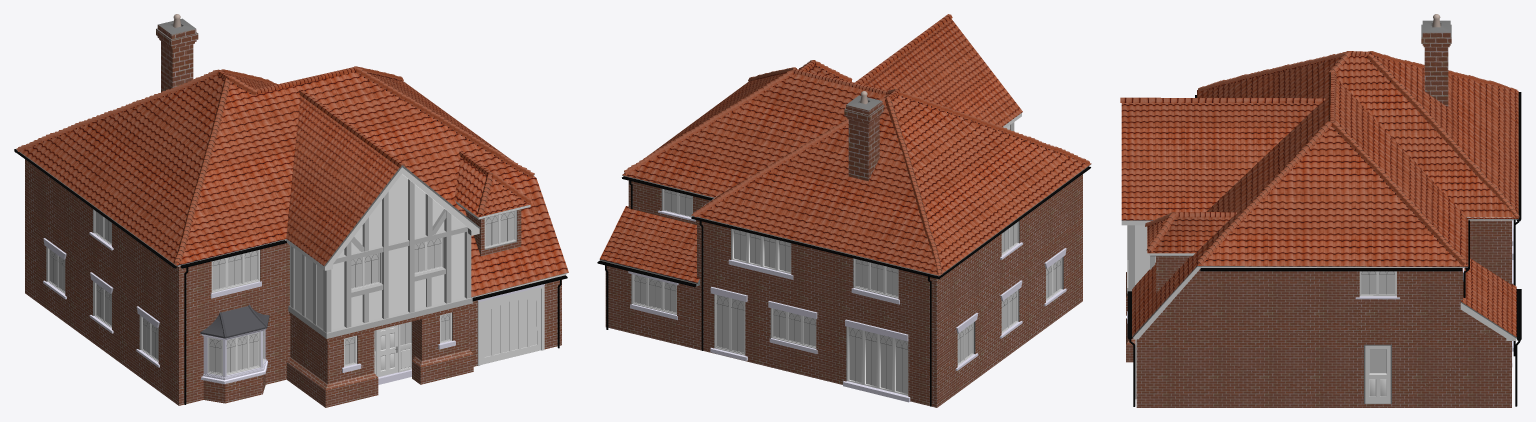
File: building3.obj
3 views of the same model, side by side, from view 1: azimuth 30°, elevation 25°; view 2: azimuth 150°, elevation 25°; view 3: azimuth 270°, elevation 25° (orthographic). The views are drawn at different scales.
Parts seen in each view (by area): view 1: CH_Building Main_Roof Roofs Roofs, CH_Building Floors Ground_Floor, CH_Building First_Floor Floors, CH_Building Roofs Roofs Second_roof Second_Roof, CH_Building pCube56 Garage, CH_Building Roofs Roofs Second_Roof pCube1, CH_Building Chimney Chimney, CH_Building Dormer Dormer_roof, CH_Building Porch_Details Porch_roof, CH_Building Windows Three_window pPlane1 Window_Details, CH_Building Door Doors Door Door1, CH_Building Dormer Dormer (+18 smaller); view 2: CH_Building Main_Roof Roofs Roofs, CH_Building Floors Ground_Floor, CH_Building First_Floor Floors, CH_Building Roofs Roofs Second_roof Second_Roof, CH_Building Roofs Roofs Third_Roof Third_Roof, CH_Building Windows pPlane2 Four_Window, CH_Building Chimney Chimney, CH_Building Windows pPlane2 Four_Window1, CH_Building Windows Two_door_Window8 pPlane1, CH_Building Windows Four_Window Exported_windowsDoors1:pCube50 F, CH_Building Windows Three_window3 pPlane1 Window_Details, CH_Building Windows Three_window2 pPlane1 Window_Details (+11 smaller); view 3: CH_Building Main_Roof Roofs Roofs, CH_Building Floors Ground_Floor, CH_Building First_Floor Floors, CH_Building Roofs Roofs Second_roof Second_Roof, CH_Building Roofs Roofs Third_Roof Third_Roof, CH_Building Dormer Dormer_roof, CH_Building Chimney Chimney, CH_Building Doors Side_Door Side_Door, CH_Building Roofs Roof_Accesories pPipe27, CH_Building Guttering pCylinder1, Heath CH_Building, CH_Building Dormer Dormer (+6 smaller).
Boxes of the visible parts, box(x1,y1,x2,y2) form: CH_Building Main_Roof Roofs Roofs: box(16, 72, 568, 297); CH_Building Floors Ground_Floor: box(25, 220, 561, 407); CH_Building First_Floor Floors: box(25, 159, 464, 332); CH_Building Roofs Roofs Second_roof Second_Roof: box(286, 95, 480, 270); CH_Building pCube56 Garage: box(480, 289, 541, 364); CH_Building Roofs Roofs Second_Roof pCube1: box(339, 174, 464, 255); CH_Building Chimney Chimney: box(156, 18, 198, 92); CH_Building Dormer Dormer_roof: box(454, 157, 532, 217); CH_Building Porch_Details Porch_roof: box(200, 306, 269, 340); CH_Building Windows Three_window pPlane1 Window_Details: box(212, 250, 257, 289); CH_Building Door Doors Door Door1: box(377, 325, 398, 377); CH_Building Dormer Dormer: box(455, 201, 530, 256); CH_Building Main_Roof Roofs Roofs: box(622, 73, 1091, 276); CH_Building Floors Ground_Floor: box(605, 231, 1082, 407); CH_Building First_Floor Floors: box(628, 125, 1082, 337); CH_Building Roofs Roofs Second_roof Second_Roof: box(862, 19, 1022, 127); CH_Building Roofs Roofs Third_Roof Third_Roof: box(599, 206, 699, 286); CH_Building Windows pPlane2 Four_Window: box(849, 327, 907, 393); CH_Building Chimney Chimney: box(844, 95, 884, 181); CH_Building Windows pPlane2 Four_Window1: box(734, 229, 790, 272); CH_Building Windows Two_door_Window8 pPlane1: box(717, 295, 744, 352); CH_Building Windows Four_Window Exported_windowsDoors1:pCube50 F: box(847, 326, 908, 395); CH_Building Windows Three_window3 pPlane1 Window_Details: box(634, 275, 676, 312); CH_Building Windows Three_window2 pPlane1 Window_Details: box(773, 309, 815, 346); CH_Building Main_Roof Roofs Roofs: box(1132, 55, 1518, 337); CH_Building Floors Ground_Floor: box(1126, 225, 1511, 407); CH_Building First_Floor Floors: box(1135, 220, 1511, 334); CH_Building Roofs Roofs Second_roof Second_Roof: box(1121, 103, 1319, 225); CH_Building Roofs Roofs Third_Roof Third_Roof: box(1460, 258, 1516, 340); CH_Building Dormer Dormer_roof: box(1147, 217, 1231, 253); CH_Building Chimney Chimney: box(1421, 20, 1451, 106); CH_Building Doors Side_Door Side_Door: box(1365, 345, 1390, 403); CH_Building Roofs Roof_Accesories pPipe27: box(1120, 97, 1325, 103); CH_Building Guttering pCylinder1: box(1200, 268, 1461, 271); Heath CH_Building: box(1133, 217, 1513, 339); CH_Building Dormer Dormer: box(1149, 253, 1194, 292).
Size of the model in its own units: 32.97 by 24.25 by 31.55.
